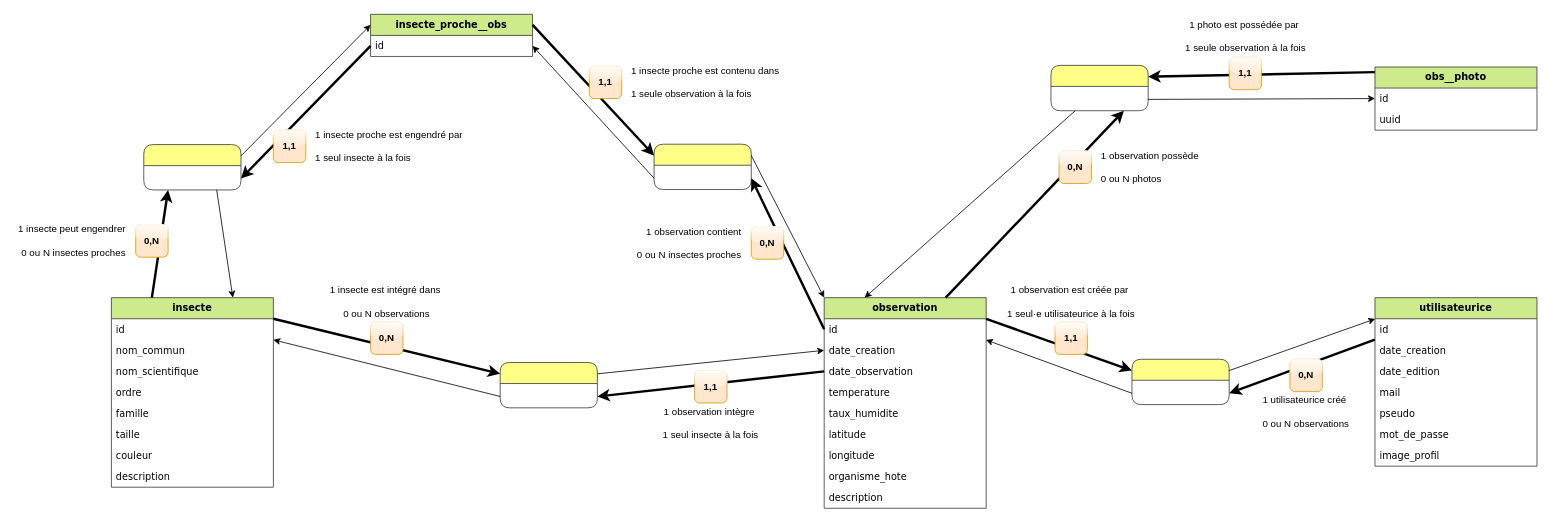
Some shapes in this 1551 by 525 pixel diagram are drawn without their labels. The centre of each missing label's shape, as x and y in pixels:
contenir: pixel 702 166
créer: pixel 1180 381
engendrer: pixel 192 167
intègrer: pixel 548 385
possèder: pixel 1099 88
